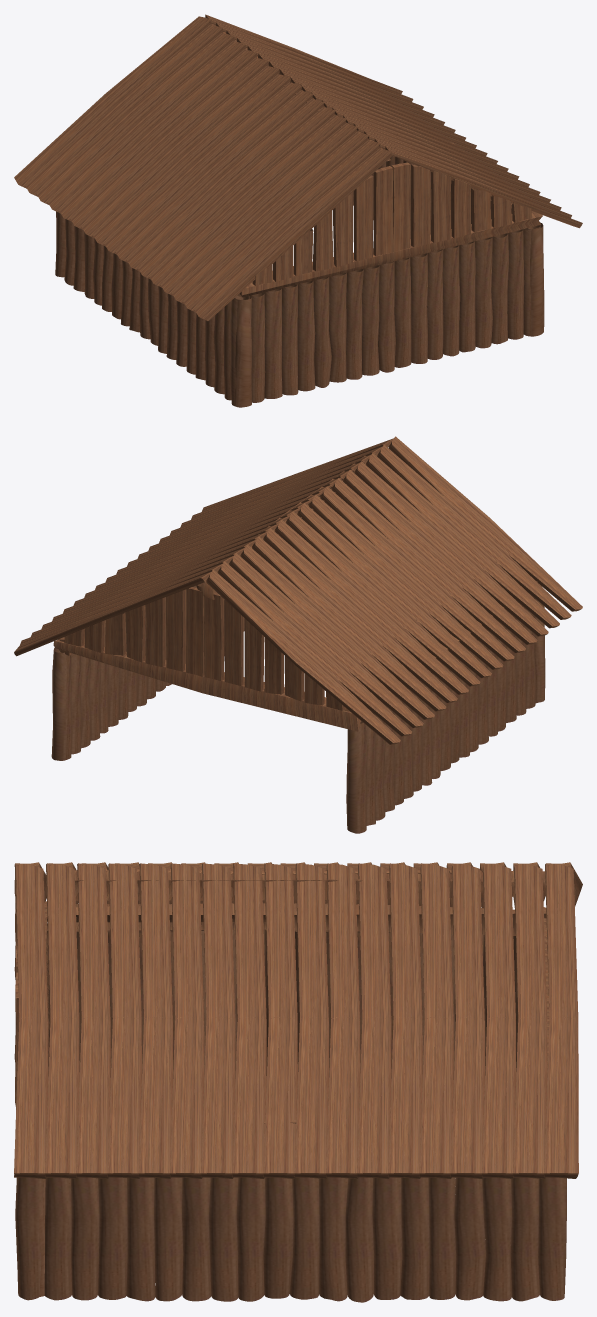
Rendered from Viking-Bootshaus.fbx.
3 views of the same model, one above another, from view 1: azimuth 30°, elevation 25°; view 2: azimuth 150°, elevation 25°; view 3: azimuth 270°, elevation 25° (orthographic). The views are drawn at different scales.
Parts seen in each view (by area): view 1: Circle; view 2: Circle; view 3: Circle.
Boxes of the visible parts, x1=… form: Circle: x1=14, y1=14, x2=582, y2=407; Circle: x1=14, y1=436, x2=582, y2=833; Circle: x1=14, y1=862, x2=582, y2=1302.
Bounding box in the file's own units: 831 × 464 × 732.
